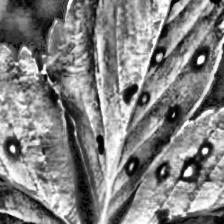Leaf Spot: (38, 0, 224, 224), (0, 41, 89, 224), (106, 105, 224, 224)
